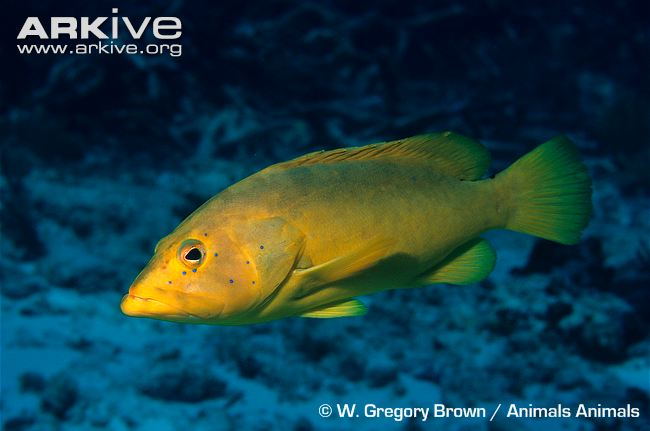Cephalopholis_fulvaw: (106, 112, 607, 331)
